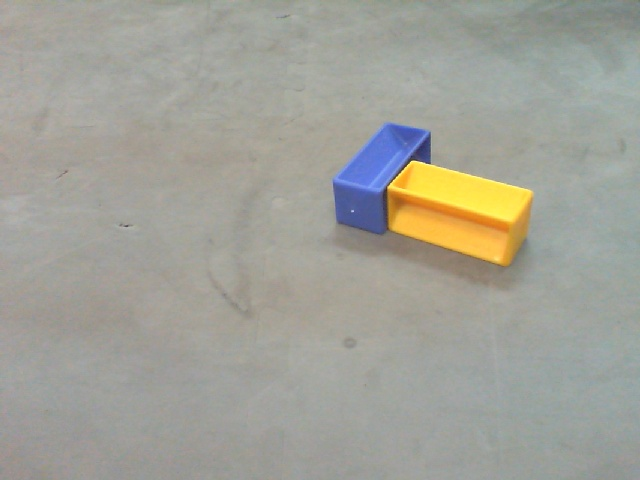BlueSample: (333, 120, 434, 243)
YellowSample: (385, 160, 536, 272)
